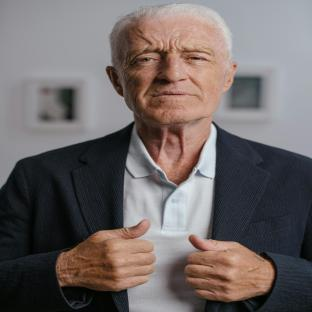Human: (0, 3, 312, 312)
